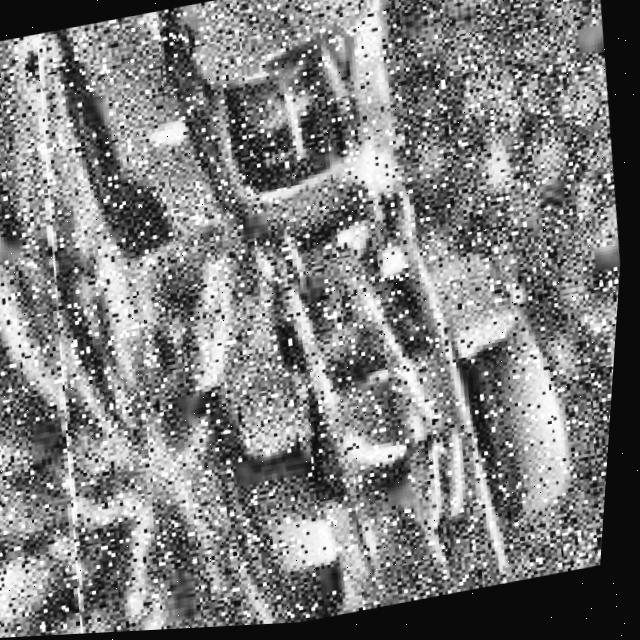buldozerpayloadergrader: (6, 0, 640, 638)
